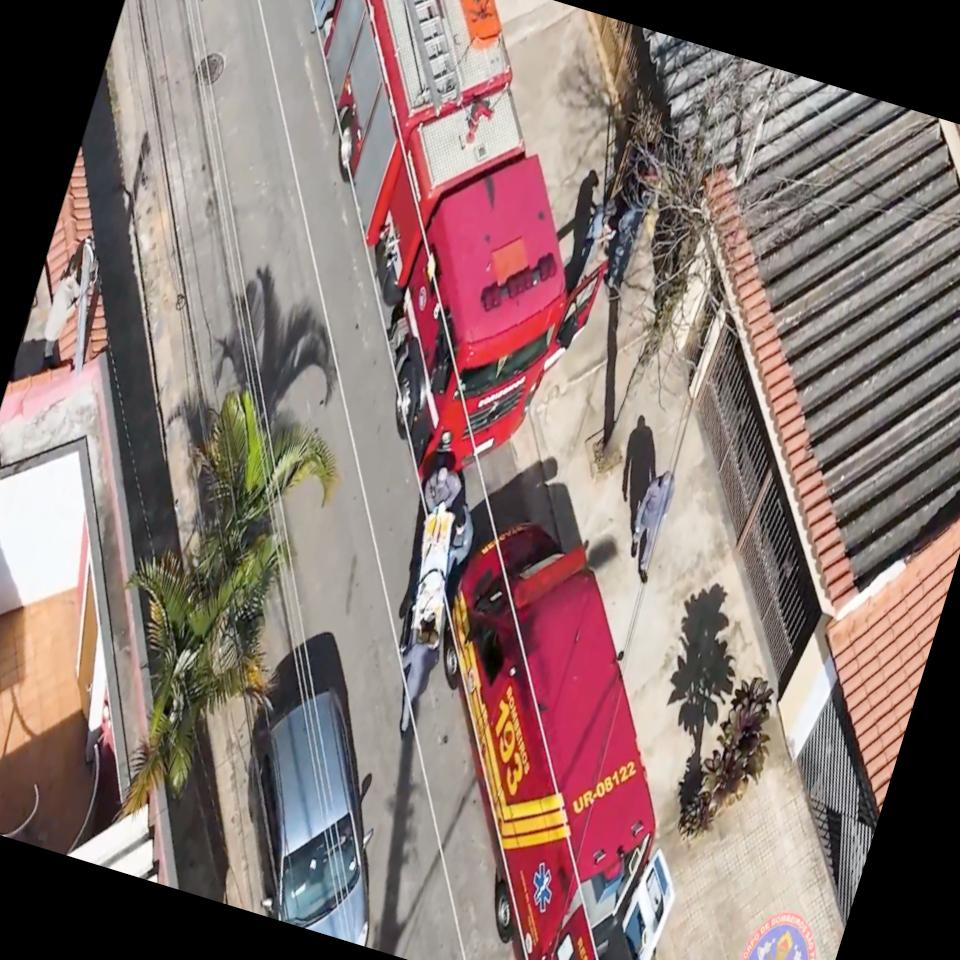viatura: (212, 0, 657, 501)
